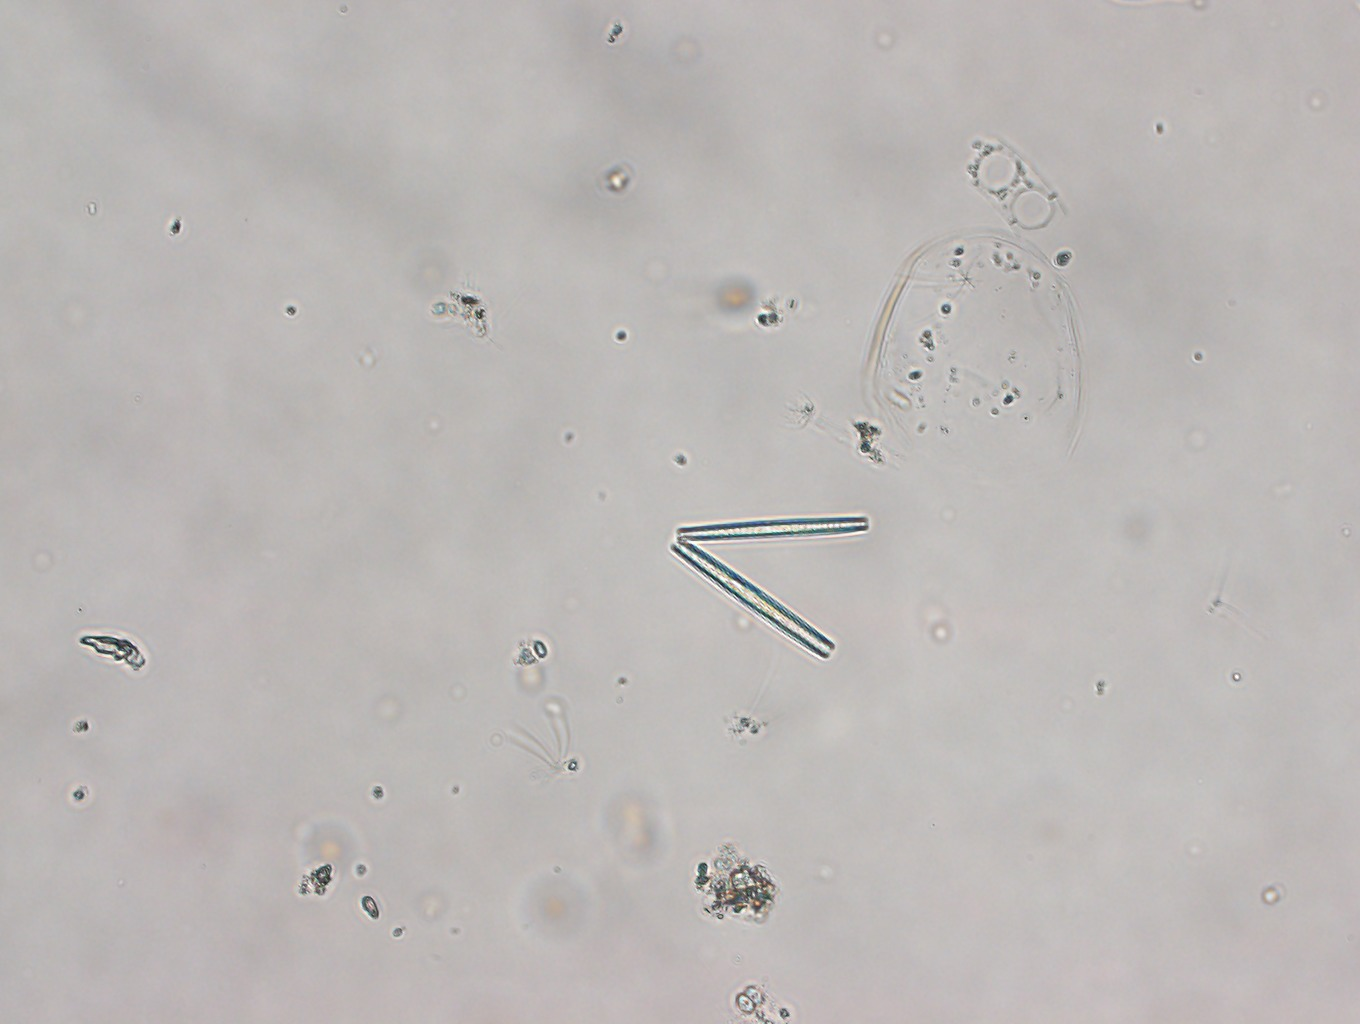eucampia: (953, 119, 1068, 247)
thalassionema nitzschioides: (663, 500, 874, 669)
